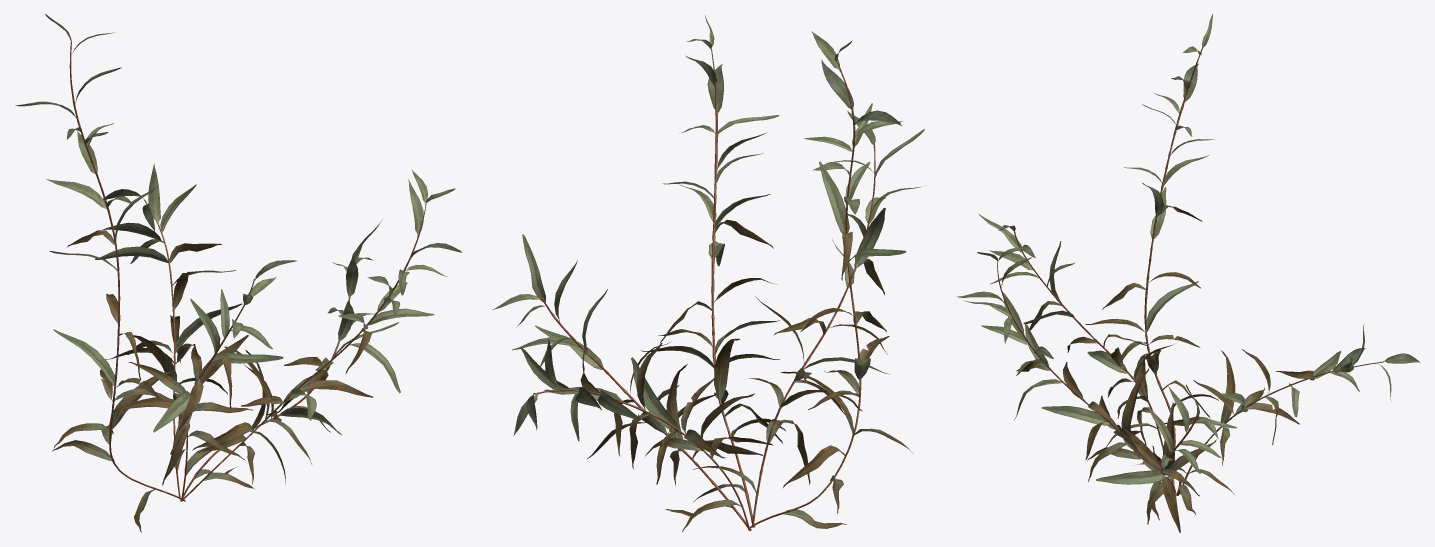
File: shrub_02_a.gltf
The picture shows the model from 3 angles, left to right: view 1: azimuth 30°, elevation 25°; view 2: azimuth 150°, elevation 25°; view 3: azimuth 270°, elevation 25°; orthographic projection. The views are drawn at different scales.
Parts seen in each view (by area): view 1: shrub_02_a; view 2: shrub_02_a; view 3: shrub_02_a.
Part boxes in pixels (x1=…): shrub_02_a: x1=15, y1=14, x2=461, y2=532; shrub_02_a: x1=492, y1=15, x2=924, y2=531; shrub_02_a: x1=956, y1=14, x2=1419, y2=532.
Bounding box in the file's own units: 1.31 × 1.69 × 1.64.
Materials: 1 (1 with a texture image).
